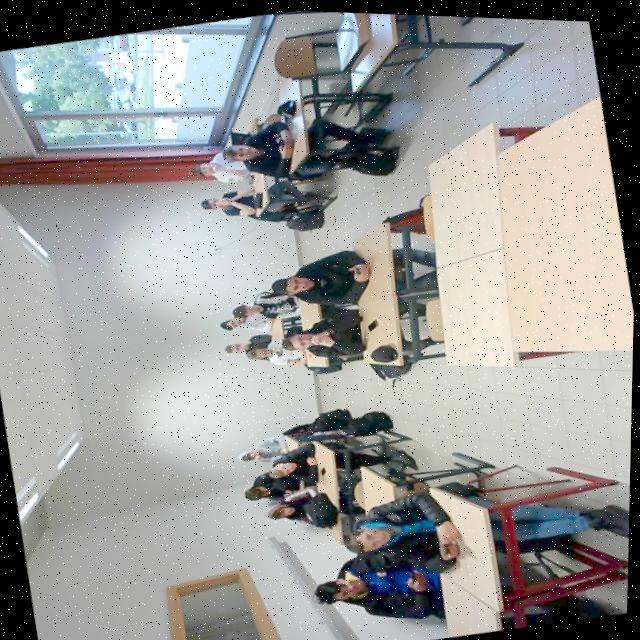phone_use: (338, 486, 458, 576), (315, 542, 442, 616), (224, 100, 294, 176), (267, 250, 367, 302), (244, 461, 315, 498), (245, 329, 302, 363)
